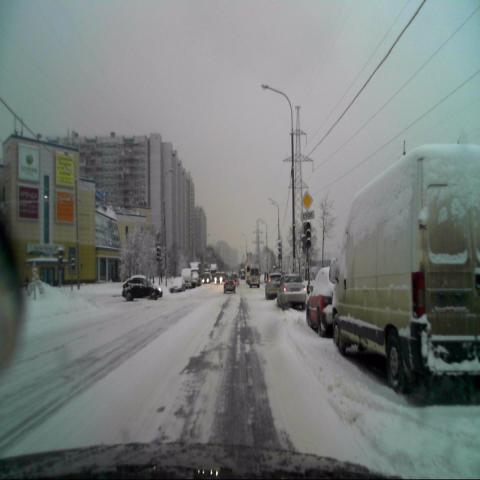2_1: (300, 189, 314, 211)
6_16: (301, 210, 314, 221)
